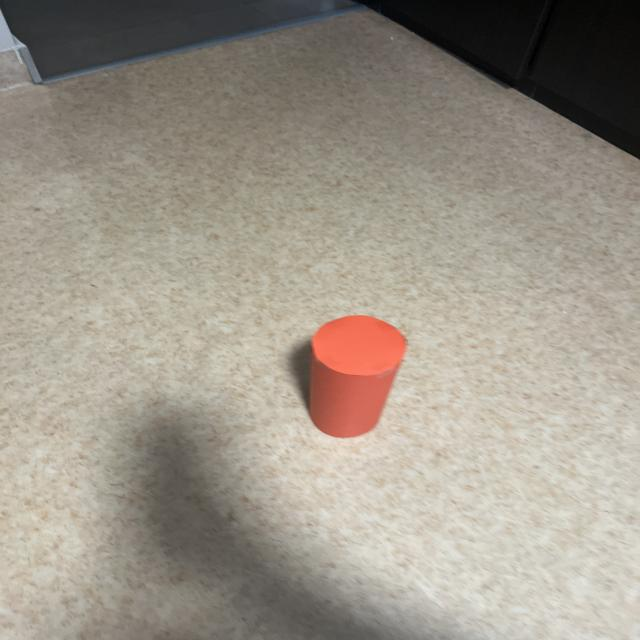przeszkoda: (309, 315, 407, 438)
